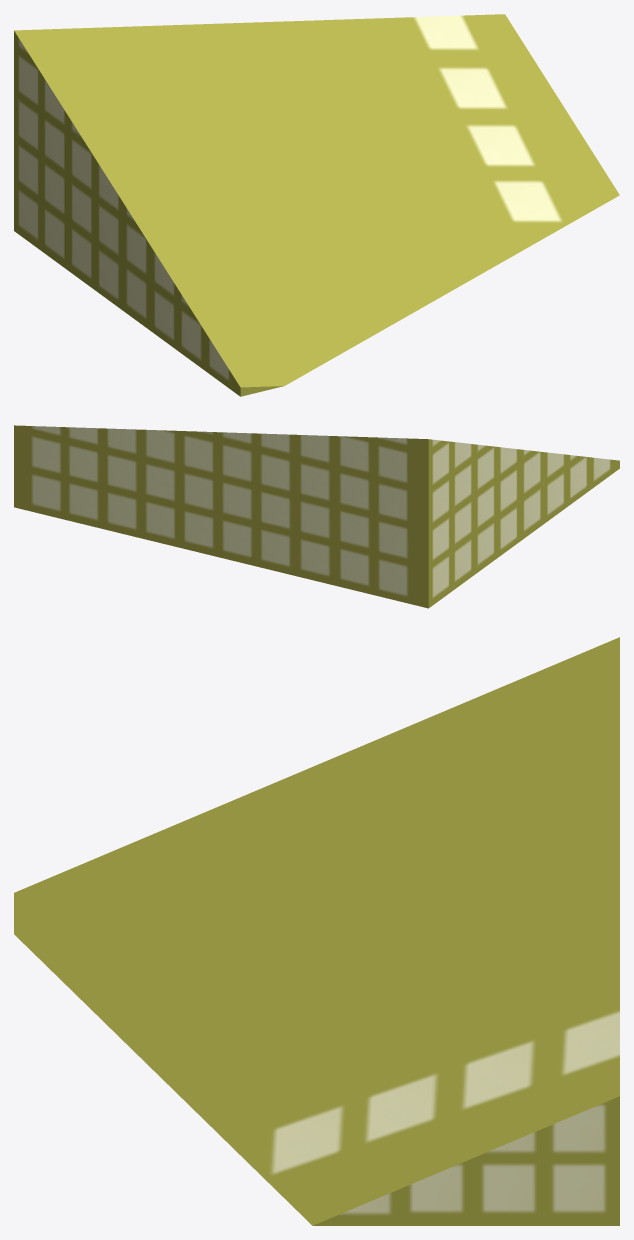
The model's file is r2Shard2.fbx.
The picture shows the model from 3 angles, top to bottom: view 1: azimuth 30°, elevation 25°; view 2: azimuth 150°, elevation 25°; view 3: azimuth 270°, elevation 25°; orthographic projection. The views are drawn at different scales.
Visible parts, largest first — view 1: shard42; view 2: shard42; view 3: shard42.
Boxes of the visible parts, left/top/right/bottom form: shard42: left=14, top=14, right=619, bottom=396; shard42: left=14, top=425, right=619, bottom=608; shard42: left=14, top=637, right=619, bottom=1225.
Size of the model in its own units: 0.1923 by 0.075 by 0.1536.
Materials: 1 (1 with a texture image).
